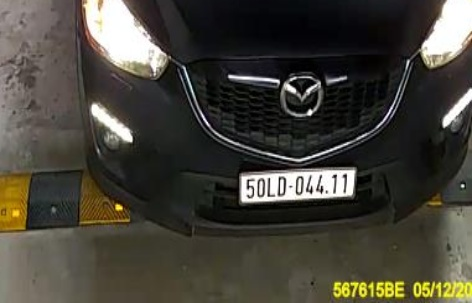plate: (236, 162, 356, 212)
